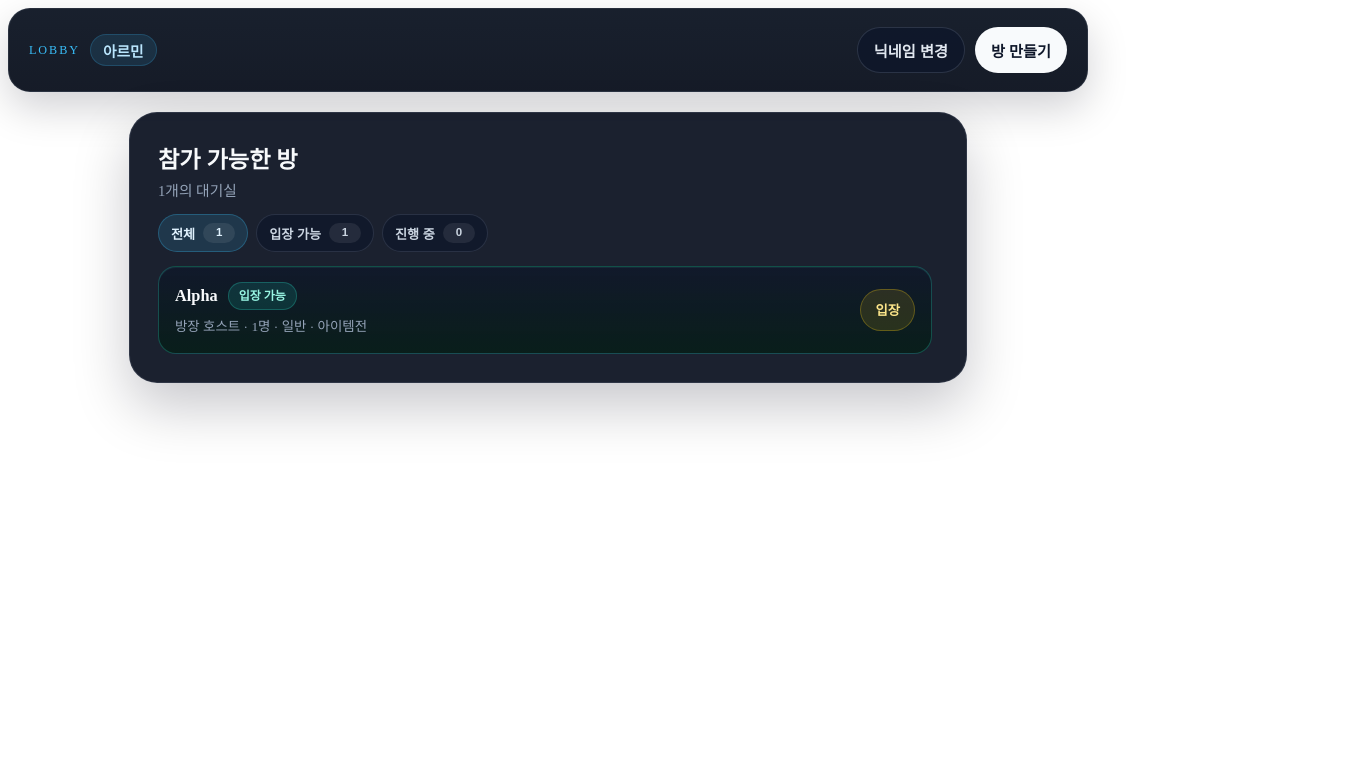
Test case: RoomListPanel › opens the room creation dialog from the header and keeps the room list centered
Click the button with test id "open-create-room-dialog-button" at (1021, 50), box [975,27,1067,73]
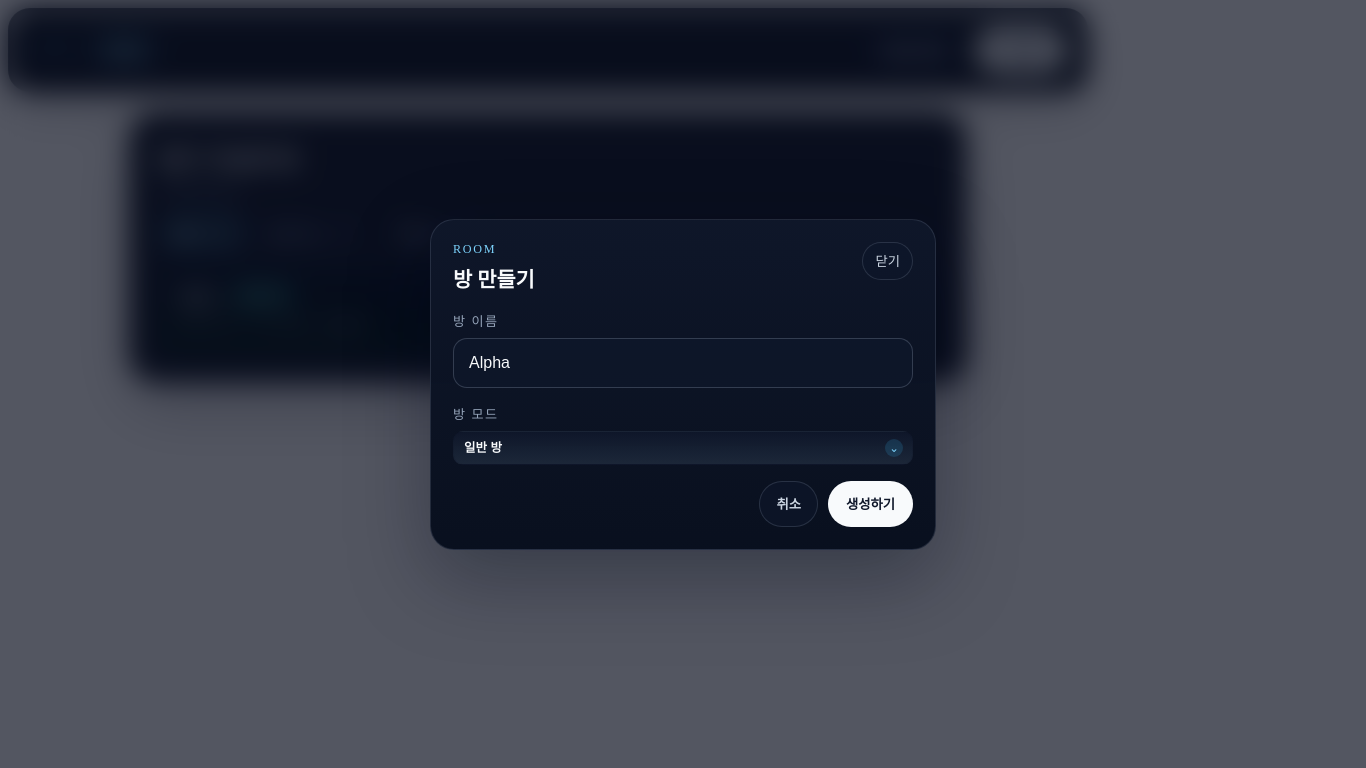
Check: the header with test id "lobby-header" is shown, box [8,8,1088,92]
Check: the dialog with test id "create-room-dialog" is shown, box [430,218,936,550]
